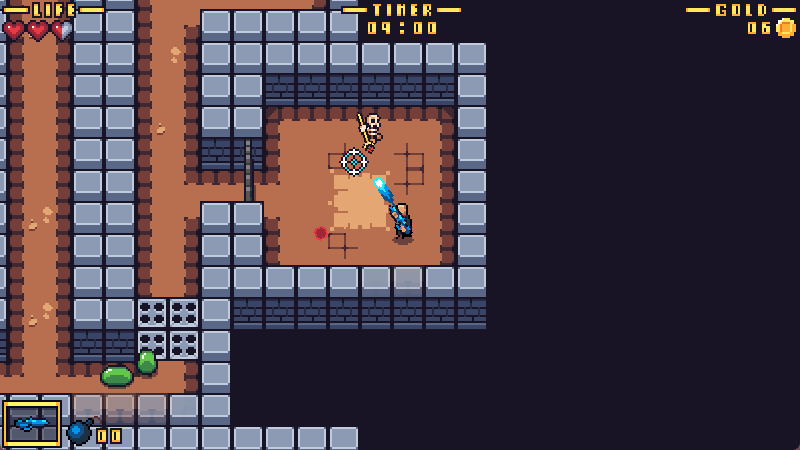bomb_counter_0: (66, 416, 123, 450)
enemy_skeleton_shoot: (313, 225, 328, 240)
enemy_slug: (99, 365, 136, 387), (134, 347, 160, 375)
gold_counter: (687, 1, 800, 38)
health-1: (1, 18, 76, 44)
player: (354, 110, 386, 154), (385, 197, 414, 242)
shoot: (340, 148, 369, 177), (373, 175, 396, 208)
timer: (343, 1, 461, 35)
trap_door: (238, 131, 259, 208)
trap_off: (136, 297, 198, 360)
